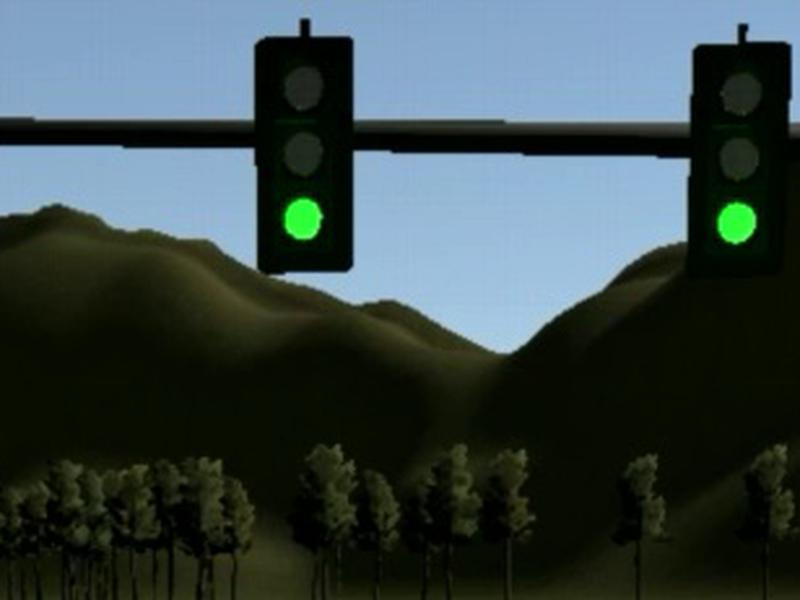Green: (686, 41, 792, 273), (256, 36, 354, 274)
